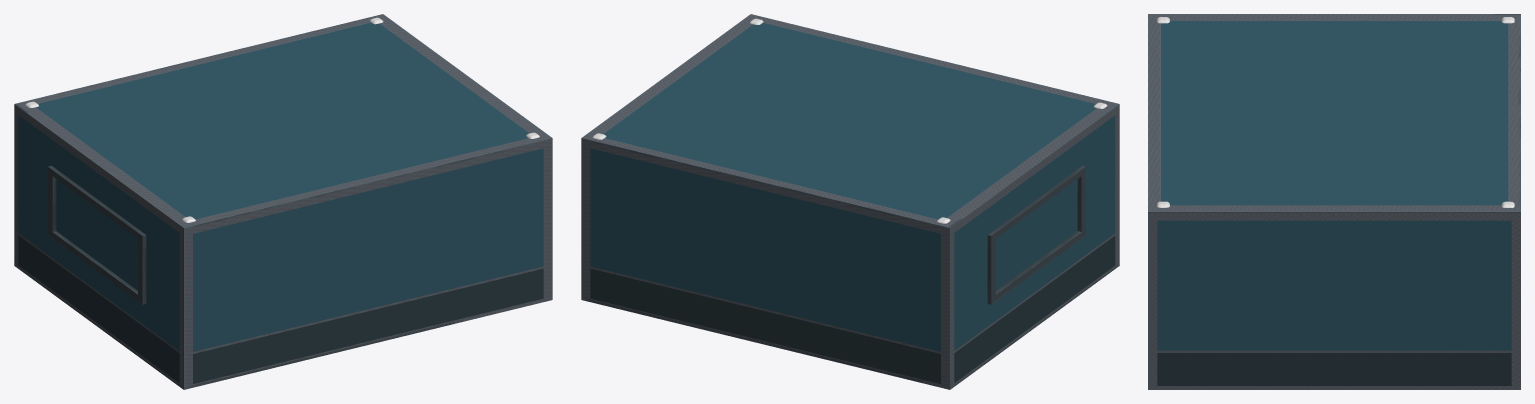
File: Room_Final.fbx
3 views of the same model, side by side, from view 1: azimuth 30°, elevation 25°; view 2: azimuth 150°, elevation 25°; view 3: azimuth 270°, elevation 25° (orthographic). The views are drawn at different scales.
Parts seen in each view (by area): view 1: Room, Window; view 2: Room, Window; view 3: Room.
Boxes of the visible parts, left/top/right/bottom form: Room: left=14, top=14, right=552, bottom=389; Window: left=48, top=165, right=146, bottom=304; Room: left=581, top=14, right=1119, bottom=389; Window: left=987, top=165, right=1085, bottom=304; Room: left=1148, top=14, right=1520, bottom=389.
Bounding box in the file's own units: 1012 × 432 × 797.
Materials: 28 (25 with a texture image).
